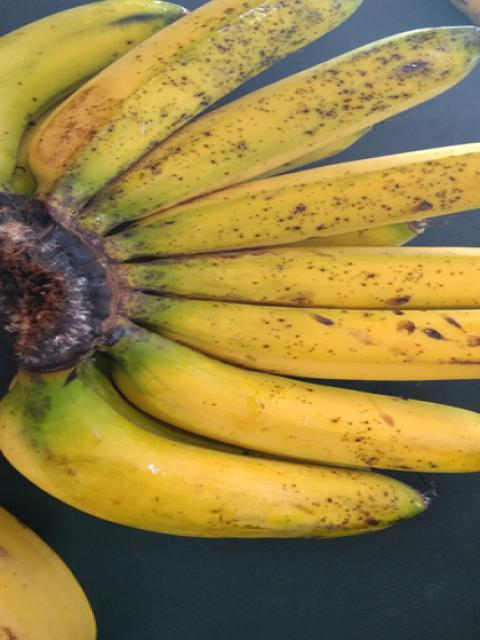ripe: (106, 19, 454, 235), (21, 375, 408, 548), (42, 0, 311, 203), (108, 341, 479, 468), (136, 140, 479, 249), (147, 291, 479, 396), (118, 237, 479, 325)
